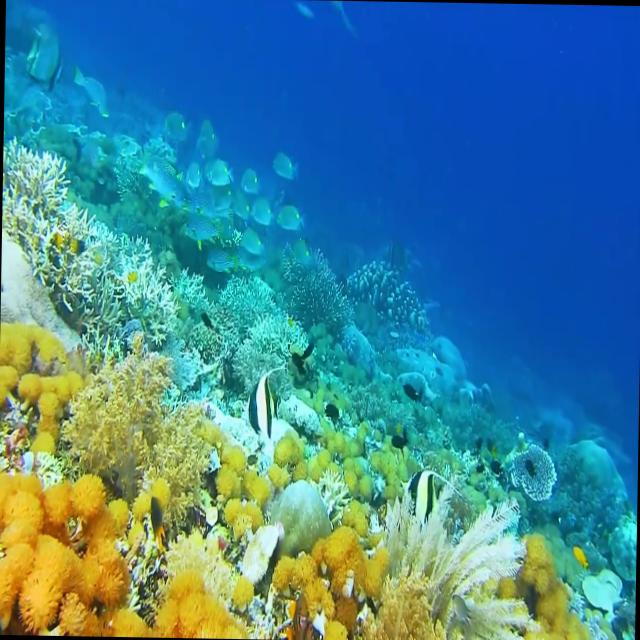fish: (400, 468, 454, 524), (243, 366, 281, 432)
